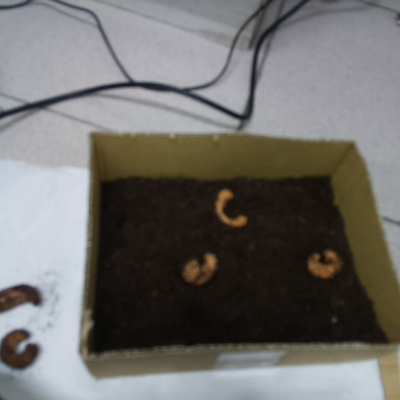eggs: (211, 184, 255, 234), (302, 244, 347, 284), (179, 248, 220, 291)
